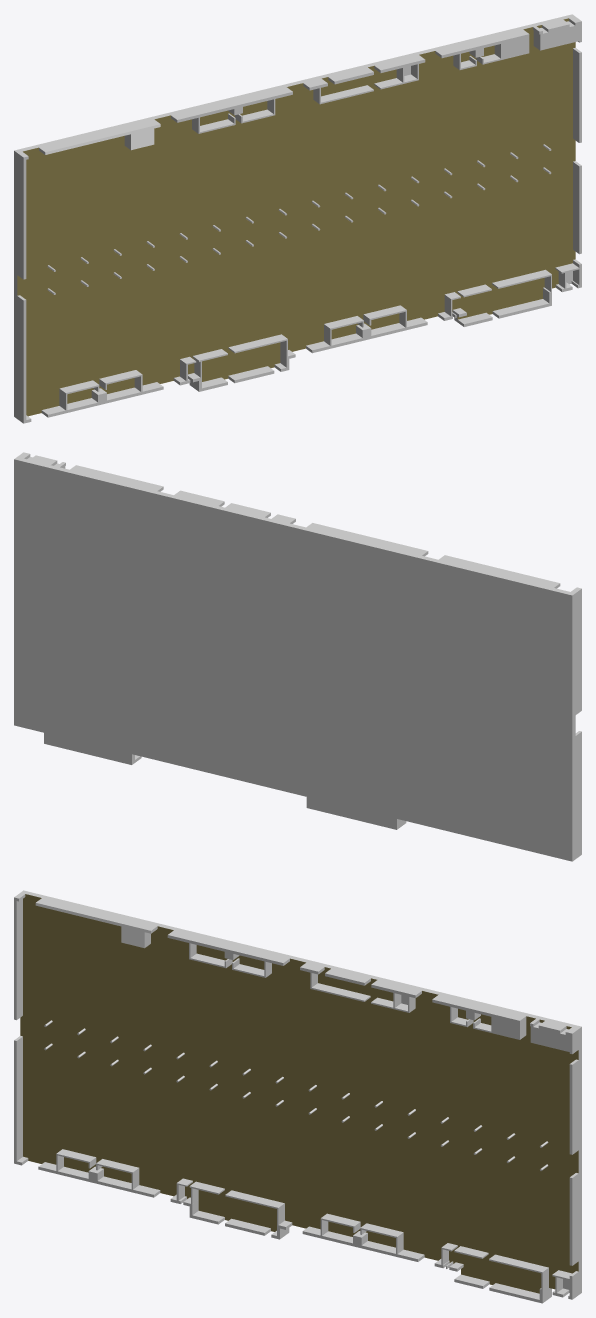
The model's file is EASL2026 - Hall 7 v2.gltf.
3 renders of one model, top to bottom at view 1: azimuth 30°, elevation 25°; view 2: azimuth 150°, elevation 25°; view 3: azimuth 330°, elevation 25°, orthographic.
Parts seen in each view (by area): view 1: Hall 7; view 2: Hall 7; view 3: Hall 7.
Part boxes in pixels (<box>): Hall 7: <box>14,14,581,423</box>; Hall 7: <box>14,452,581,861</box>; Hall 7: <box>14,890,581,1303</box>.
Bounding box in the file's own units: 202 × 95.85 × 6.
